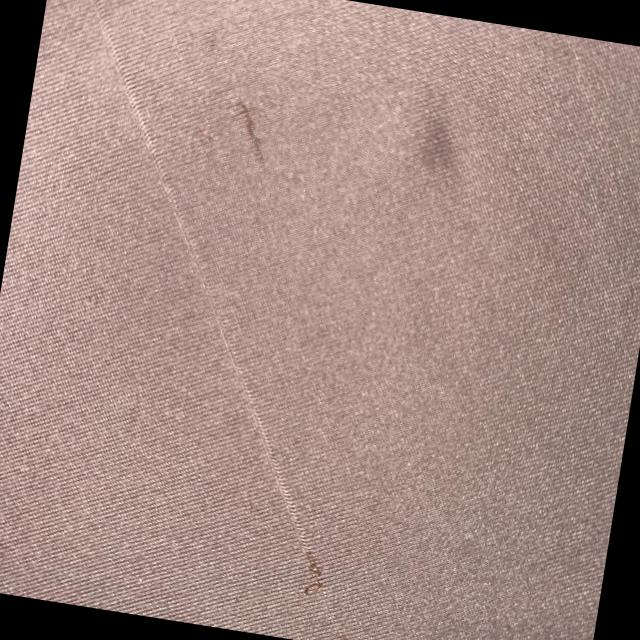Stain: (400, 88, 482, 190), (234, 103, 274, 162)
Warp_Weft: (0, 0, 417, 601)
